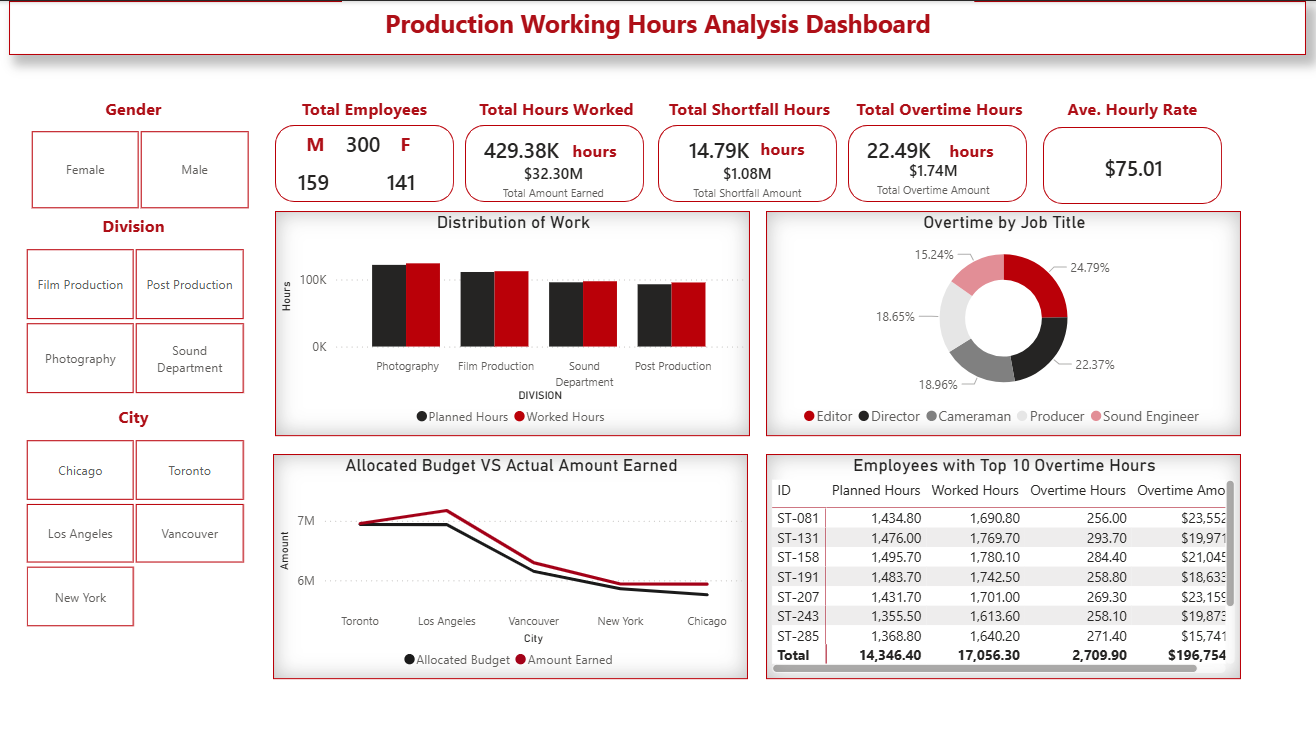

What the dashboard file says about the page in this screenshot:
{"tool":"powerbi","page":{"name":"Page 1","canvas":[1280,720],"ordinal":0},"visuals":[{"type":"shape","box":[8.8,0,1261.5,52.5],"z":0},{"type":"cardVisual","fields":{"Data":["production_working_hours.Total Employees"]},"box":[307.4,108,94.3,59.3],"z":0,"group":"g1"},{"type":"textbox","box":[332.6,0,614.7,45.7],"z":1000},{"type":"group","id":"g1","title":"Group 1","box":[260.7,88.5,180.9,115.7],"z":2000},{"type":"group","id":"g2","title":"Group 1","box":[441.6,88.5,187.7,107],"z":3000},{"type":"shape","box":[267.5,120.6,174.1,74.9],"z":3000,"group":"g1"},{"type":"shape","box":[452.2,120.8,174.1,74.9],"z":3000,"group":"g2"},{"type":"shape","box":[640,120.8,174.1,74.9],"z":3000,"group":"g3"},{"type":"shape","box":[824.7,120.8,174.1,74.9],"z":3000,"group":"g4"},{"type":"shape","box":[1014,123,174.1,74.9],"z":3000,"group":"g5"},{"type":"cardVisual","fields":{"Data":["production_working_hours.Shortfall Hrs"]},"box":[640.6,113.6,137.1,59.3],"z":4000,"group":"g3"},{"type":"cardVisual","fields":{"Data":["production_working_hours.Total Worked Hours"]},"box":[441.6,114,137.1,59.3],"z":4000,"group":"g2"},{"type":"cardVisual","fields":{"Data":["production_working_hours.Overtime"]},"box":[814.1,114,137.1,59.3],"z":4000,"group":"g4"},{"type":"cardVisual","fields":{"Data":["production_working_hours.Ave. Hourly Rate"]},"box":[1015,131.8,174.1,59.3],"z":4000,"group":"g5"},{"type":"cardVisual","fields":{"Data":["production_working_hours.Total"]},"box":[418.2,138.1,240.2,75.9],"z":4000},{"type":"cardVisual","fields":{"Data":["production_working_hours.Total Male Employees"]},"box":[260.7,144.9,94.3,59.3],"z":4000,"group":"g1"},{"type":"textbox","box":[546.6,129.4,63.2,45.7],"z":5000},{"type":"cardVisual","fields":{"Data":["production_working_hours.Total Female Employees"]},"box":[347.3,144.9,94.3,59.3],"z":5000,"group":"g1"},{"type":"group","id":"g3","title":"Group 1","box":[640,88.5,177,107],"z":6000},{"type":"textbox","box":[275.3,120.6,63.2,43.8],"z":6000,"group":"g1"},{"type":"textbox","box":[362.8,120.6,63.2,45.7],"z":7000,"group":"g1"},{"type":"textbox","box":[729.5,127.4,63.2,45.7],"z":7000},{"type":"textbox","box":[285,88.5,139.1,32.1],"z":8000,"group":"g1"},{"type":"textbox","box":[453.2,88.5,176,32.1],"z":8000,"group":"g2"},{"type":"textbox","box":[641,88.5,176,32.1],"z":8000,"group":"g3"},{"type":"textbox","box":[825.7,88.5,176,32.1],"z":8000,"group":"g4"},{"type":"textbox","box":[1032,88.5,139.1,32.1],"z":8000,"group":"g5"},{"type":"cardVisual","fields":{"Data":["production_working_hours.Total Amount Lost"]},"box":[606.9,138.1,240.2,75.9],"z":8000},{"type":"textbox","box":[60.3,202.3,139.1,32.1],"z":9000},{"type":"group","id":"g4","title":"Group 1","box":[814.1,88.5,187.7,107],"z":10000},{"type":"cardVisual","fields":{"Data":["Sum(production_working_hours.Overtime Amount)"]},"box":[787.8,135.2,240.2,75.9],"z":11000},{"type":"textbox","box":[913.3,129.4,63.2,45.7],"z":12000},{"type":"slicer","fields":{"Values":["production_working_hours.DIVISION"]},"box":[0,234.4,260.7,153.7],"z":13000},{"type":"slicer","fields":{"Values":["production_working_hours.Gender"]},"box":[4.9,119.6,260.7,88.5],"z":14000},{"type":"textbox","box":[60.3,88.5,139.1,32.1],"z":15000},{"type":"slicer","fields":{"Values":["production_working_hours.City"]},"box":[0,420.2,260.7,194.5],"z":16000},{"type":"textbox","box":[60.3,388.1,139.1,32.1],"z":17000},{"type":"clusteredColumnChart","title":"Distribution of Work","fields":{"Category":["production_working_hours.DIVISION"],"Y":["Sum(production_working_hours.PLANNED Hours)","Sum(production_working_hours.Worked Hours)"]},"box":[267.5,204.3,462,218.8],"z":18000},{"type":"donutChart","title":"Overtime by Job Title","fields":{"Category":["production_working_hours.Job Title"],"Y":["production_working_hours.Overtime"]},"box":[745,204.3,462,218.8],"z":19000},{"type":"pivotTable","title":"Employees with Top 10 Overtime Hours","fields":{"Rows":["production_working_hours.ID"],"Values":["Sum(production_working_hours.PLANNED Hours)","Sum(production_working_hours.Worked Hours)","Sum(production_working_hours.Overtime Hours)","Sum(production_working_hours.Overtime Amount)"]},"box":[745,440.6,462,218.8],"z":20000},{"type":"lineChart","title":"Allocated Budget VS Actual Amount Earned","fields":{"Category":["production_working_hours.City"],"Y":["Sum(production_working_hours.Allocated Budget)","Sum(production_working_hours.Amount Earned)"]},"box":[265.5,440.6,462,218.8],"z":21000},{"type":"group","id":"g5","title":"Group 1","box":[1014,88.5,175.1,109.4],"z":22000}]}

Visuals, with their boxes in screenshot pixels (x1, y1, x2, y2), scaled from the page's 1280x720 canvas onto the 1316x738 screenshot:
shape: [x1=9, y1=0, x2=1306, y2=54]
cardVisual - production_working_hours.Total Employees: [x1=316, y1=111, x2=413, y2=171]
textbox: [x1=342, y1=0, x2=974, y2=47]
"Group 1" group: [x1=268, y1=91, x2=454, y2=209]
"Group 1" group: [x1=454, y1=91, x2=647, y2=200]
shape: [x1=275, y1=124, x2=454, y2=200]
shape: [x1=465, y1=124, x2=644, y2=201]
shape: [x1=658, y1=124, x2=837, y2=201]
shape: [x1=848, y1=124, x2=1027, y2=201]
shape: [x1=1043, y1=126, x2=1222, y2=203]
cardVisual - production_working_hours.Shortfall Hrs: [x1=659, y1=116, x2=800, y2=177]
cardVisual - production_working_hours.Total Worked Hours: [x1=454, y1=117, x2=595, y2=178]
cardVisual - production_working_hours.Overtime: [x1=837, y1=117, x2=978, y2=178]
cardVisual - production_working_hours.Ave. Hourly Rate: [x1=1044, y1=135, x2=1223, y2=196]
cardVisual - production_working_hours.Total: [x1=430, y1=142, x2=677, y2=219]
cardVisual - production_working_hours.Total Male Employees: [x1=268, y1=149, x2=365, y2=209]
textbox: [x1=562, y1=133, x2=627, y2=179]
cardVisual - production_working_hours.Total Female Employees: [x1=357, y1=149, x2=454, y2=209]
"Group 1" group: [x1=658, y1=91, x2=840, y2=200]
textbox: [x1=283, y1=124, x2=348, y2=169]
textbox: [x1=373, y1=124, x2=438, y2=170]
textbox: [x1=750, y1=131, x2=815, y2=177]
textbox: [x1=293, y1=91, x2=436, y2=124]
textbox: [x1=466, y1=91, x2=647, y2=124]
textbox: [x1=659, y1=91, x2=840, y2=124]
textbox: [x1=849, y1=91, x2=1030, y2=124]
textbox: [x1=1061, y1=91, x2=1204, y2=124]
cardVisual - production_working_hours.Total Amount Lost: [x1=624, y1=142, x2=871, y2=219]
textbox: [x1=62, y1=207, x2=205, y2=240]
"Group 1" group: [x1=837, y1=91, x2=1030, y2=200]
cardVisual - Sum(production_working_hours.Overtime Amount): [x1=810, y1=139, x2=1057, y2=216]
textbox: [x1=939, y1=133, x2=1004, y2=179]
slicer - production_working_hours.DIVISION: [x1=0, y1=240, x2=268, y2=398]
slicer - production_working_hours.Gender: [x1=5, y1=123, x2=273, y2=213]
textbox: [x1=62, y1=91, x2=205, y2=124]
slicer - production_working_hours.City: [x1=0, y1=431, x2=268, y2=630]
textbox: [x1=62, y1=398, x2=205, y2=431]
"Distribution of Work" clusteredColumnChart: [x1=275, y1=209, x2=750, y2=434]
"Overtime by Job Title" donutChart: [x1=766, y1=209, x2=1241, y2=434]
"Employees with Top 10 Overtime Hours" pivotTable: [x1=766, y1=452, x2=1241, y2=676]
"Allocated Budget VS Actual Amount Earned" lineChart: [x1=273, y1=452, x2=748, y2=676]
"Group 1" group: [x1=1043, y1=91, x2=1223, y2=203]
